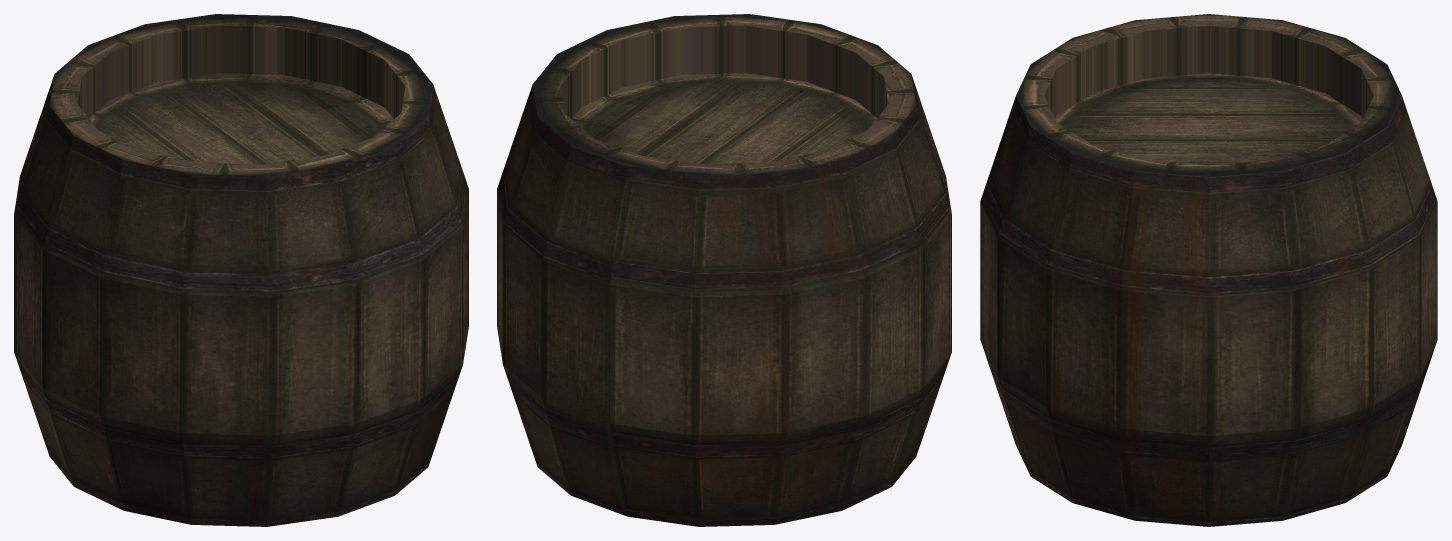
The model's file is barril2.fbx.
3 renders of one model, left to right at view 1: azimuth 30°, elevation 25°; view 2: azimuth 150°, elevation 25°; view 3: azimuth 270°, elevation 25°, orthographic.
Parts seen in each view (by area): view 1: Cylinder; view 2: Cylinder; view 3: Cylinder.
Part boxes in pixels (<box>): Cylinder: <box>14,14,468,526</box>; Cylinder: <box>497,14,951,526</box>; Cylinder: <box>980,14,1437,526</box>.
Size of the model in its own units: 237 by 200 by 237.
Materials: 1 (1 with a texture image).
